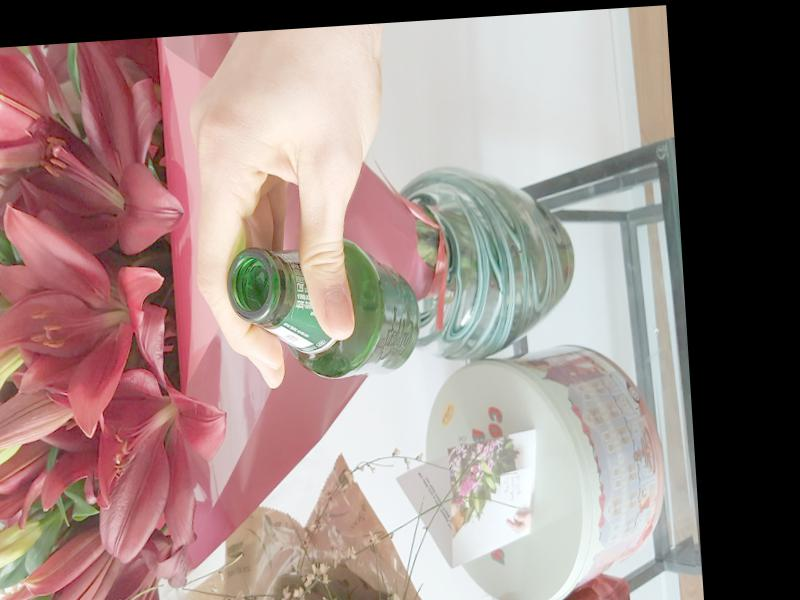Beer: (224, 232, 422, 384)
